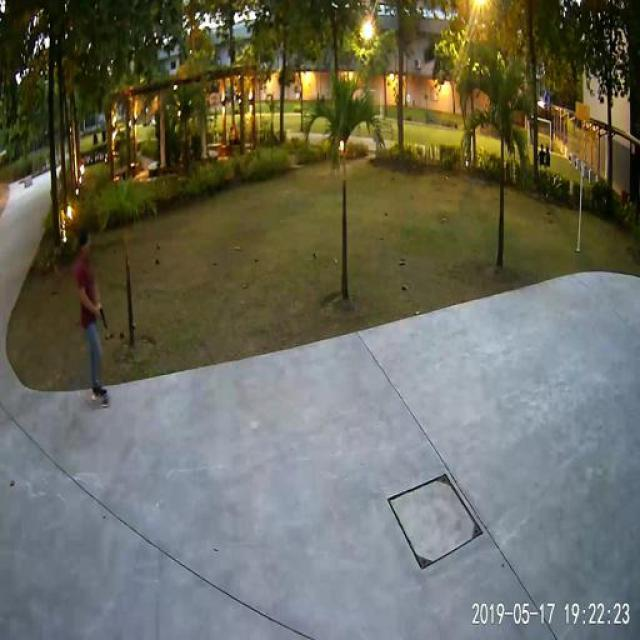Gun: (94, 298, 114, 332)
